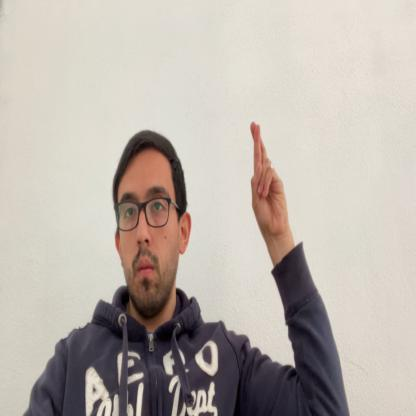R: (250, 121, 287, 239)
